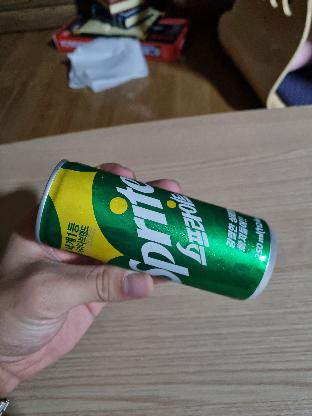Can: (40, 166, 274, 298)
